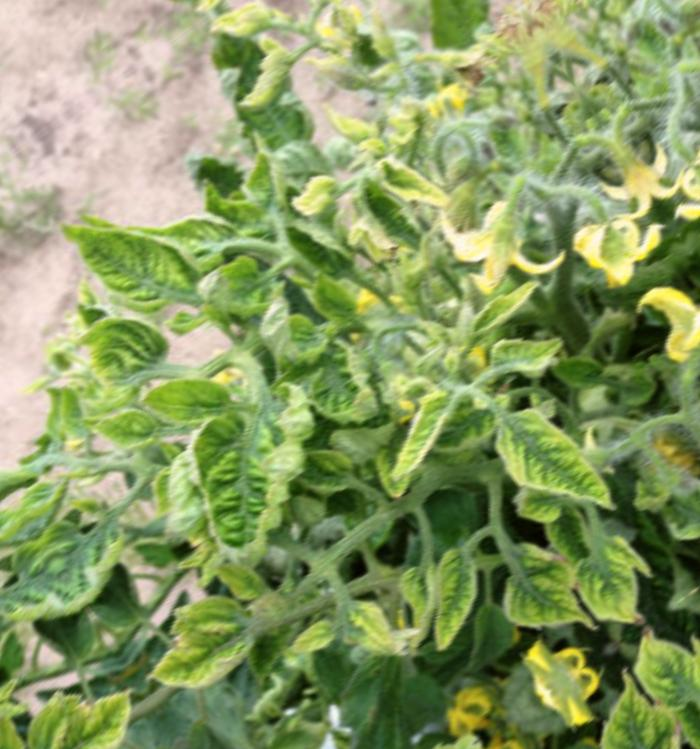Tomato leaf yellow virus: (139, 357, 382, 595), (33, 171, 204, 348), (466, 373, 633, 550), (116, 570, 291, 737), (545, 492, 700, 647), (271, 320, 414, 458), (117, 340, 260, 477), (386, 535, 515, 662), (478, 528, 602, 655), (441, 184, 572, 304)
